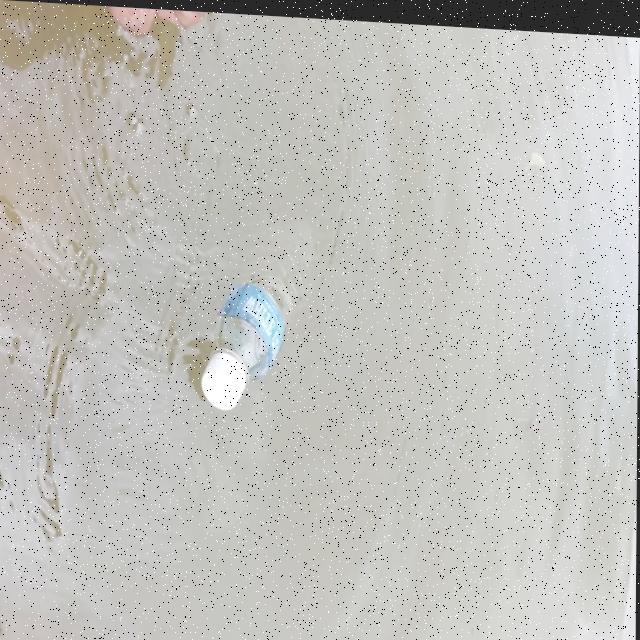waterbottle: (175, 226, 321, 443)
